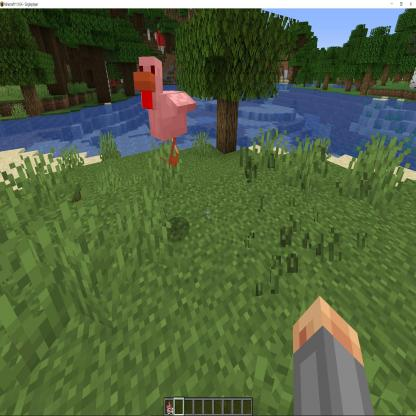minecraft-pigs: (131, 49, 198, 172)
